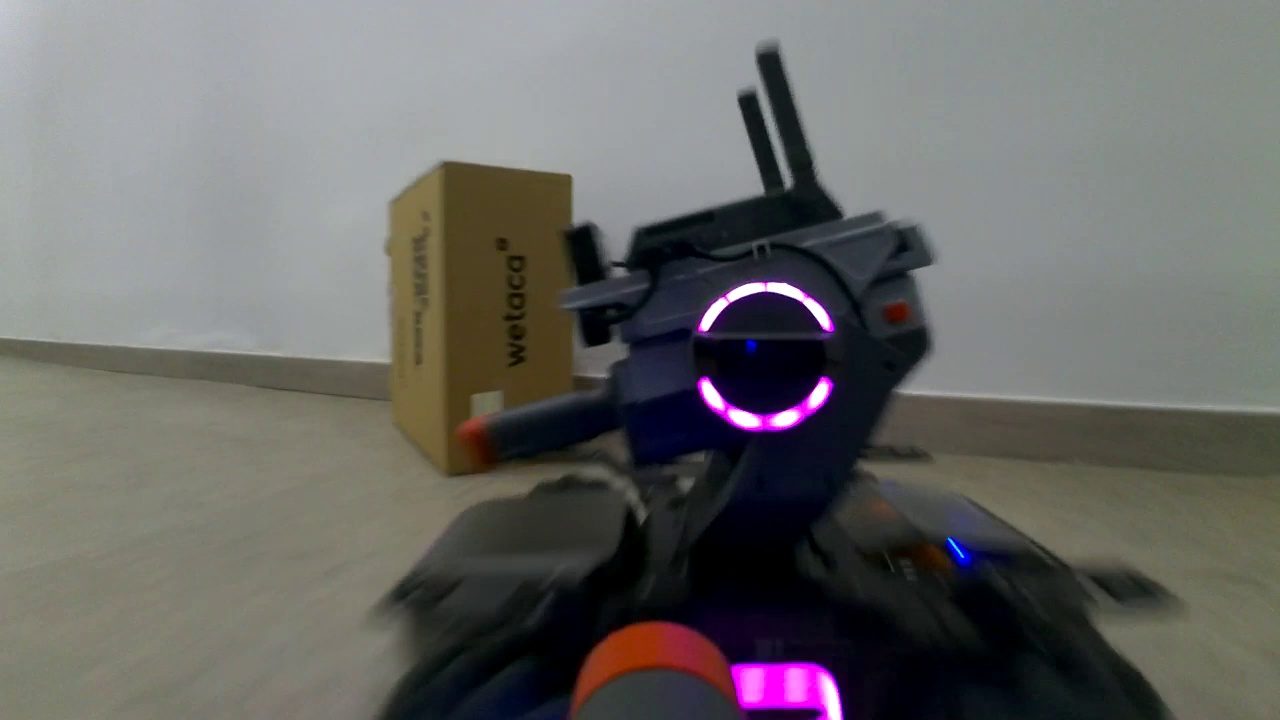robot: (389, 190, 1173, 710)
